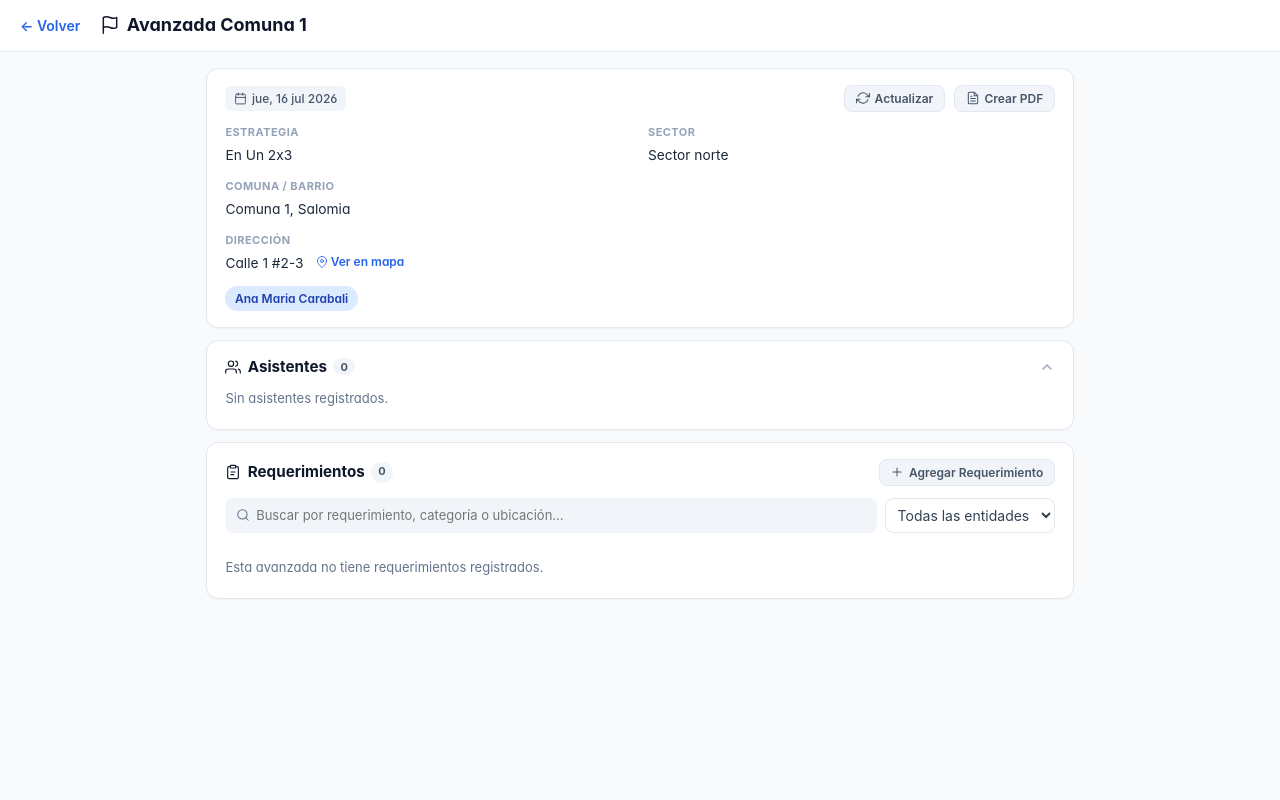
Scenario: DetalleAvanzada › '+ Agregar Requerimiento' inline form › GPS button captures the device position and fills the coordinates field
The width and height of the screenshot is (1280, 800).
Click the button "Agregar Requerimiento" at [967, 472], box [879,459,1055,486]
(page scrolled)
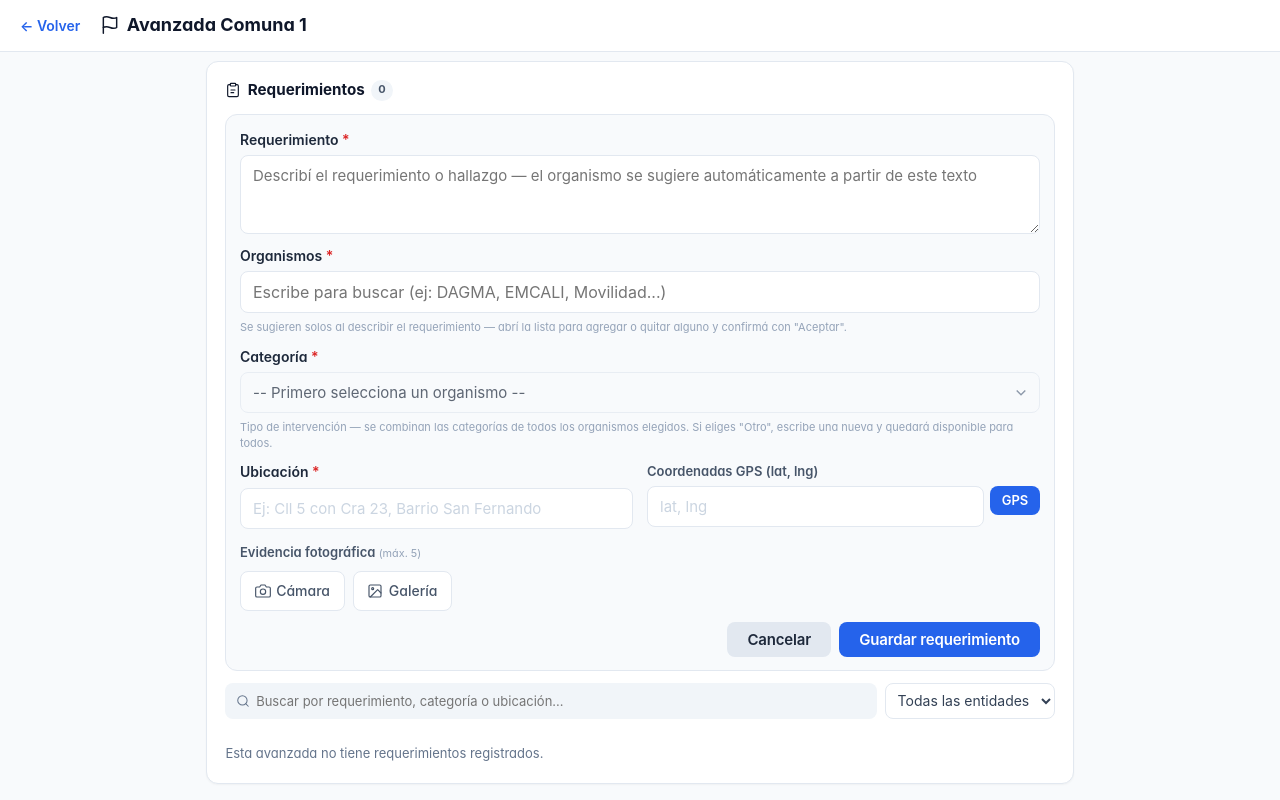
Click the button "GPS" at [1015, 501], box [990,486,1040,515]
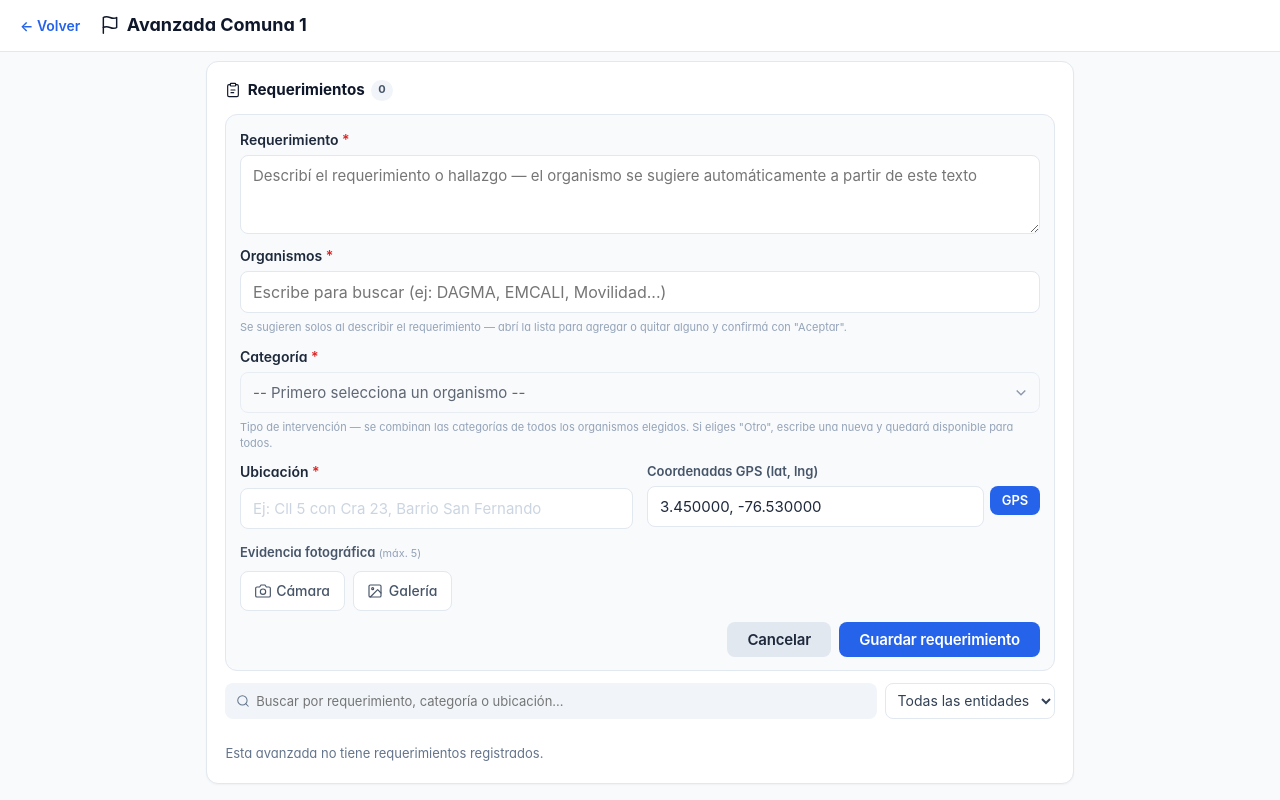
Result: the field with placeholder "lat, lng" holds "3.450000, -76.530000" at [647,486,984,527]
